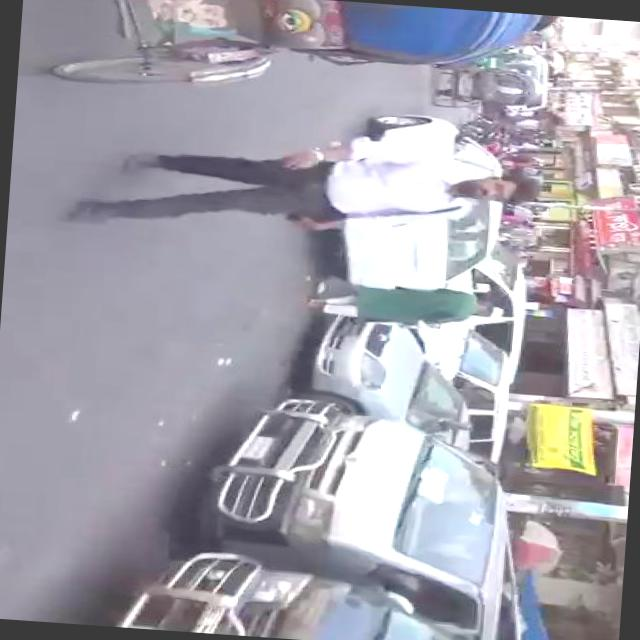car: (322, 107, 510, 300), (291, 310, 485, 450)
motorcycle: (272, 3, 547, 80), (418, 62, 548, 116), (463, 126, 513, 163)
truck: (180, 388, 523, 640), (95, 544, 488, 640), (405, 318, 516, 462), (449, 236, 535, 394)
